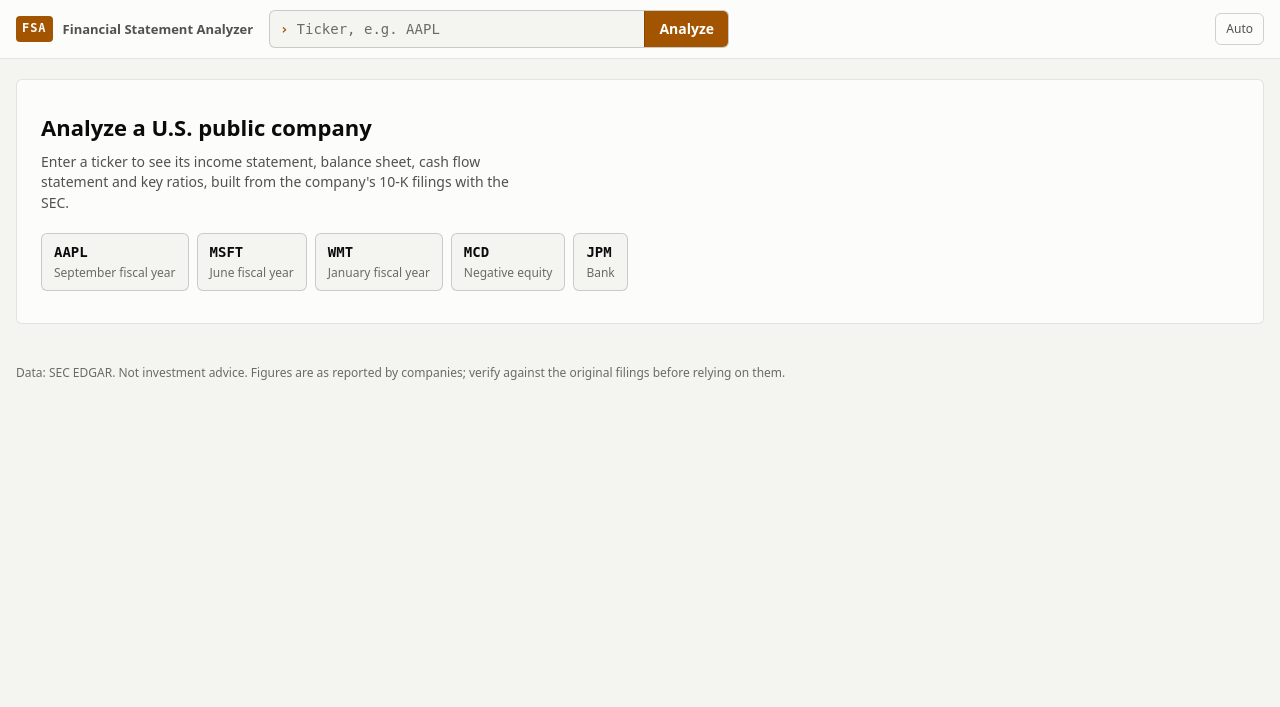
Trend analysis › explains findings that lack data
Type "EXMP" into the field named "Company ticker" at (466, 29), box x1=288 y1=13 x2=644 y2=45
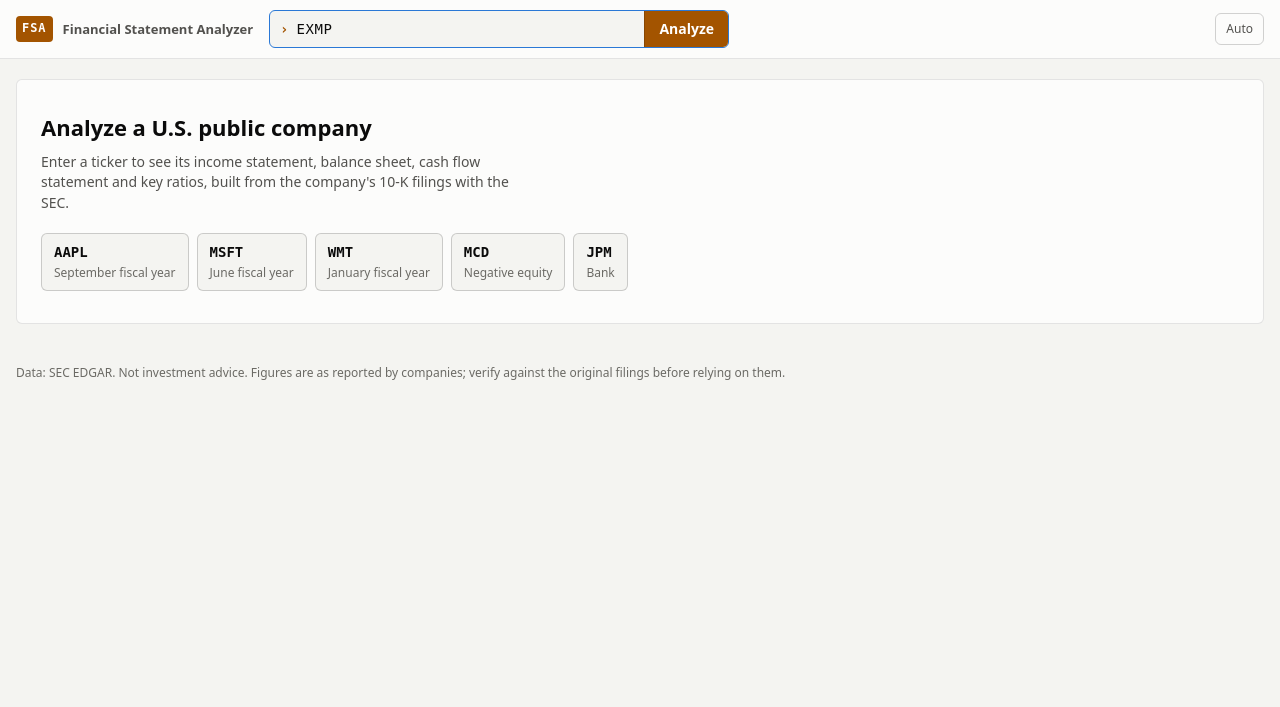
Click the button "Analyze" at (686, 29), box x1=644 y1=11 x2=728 y2=47
(page scrolled)
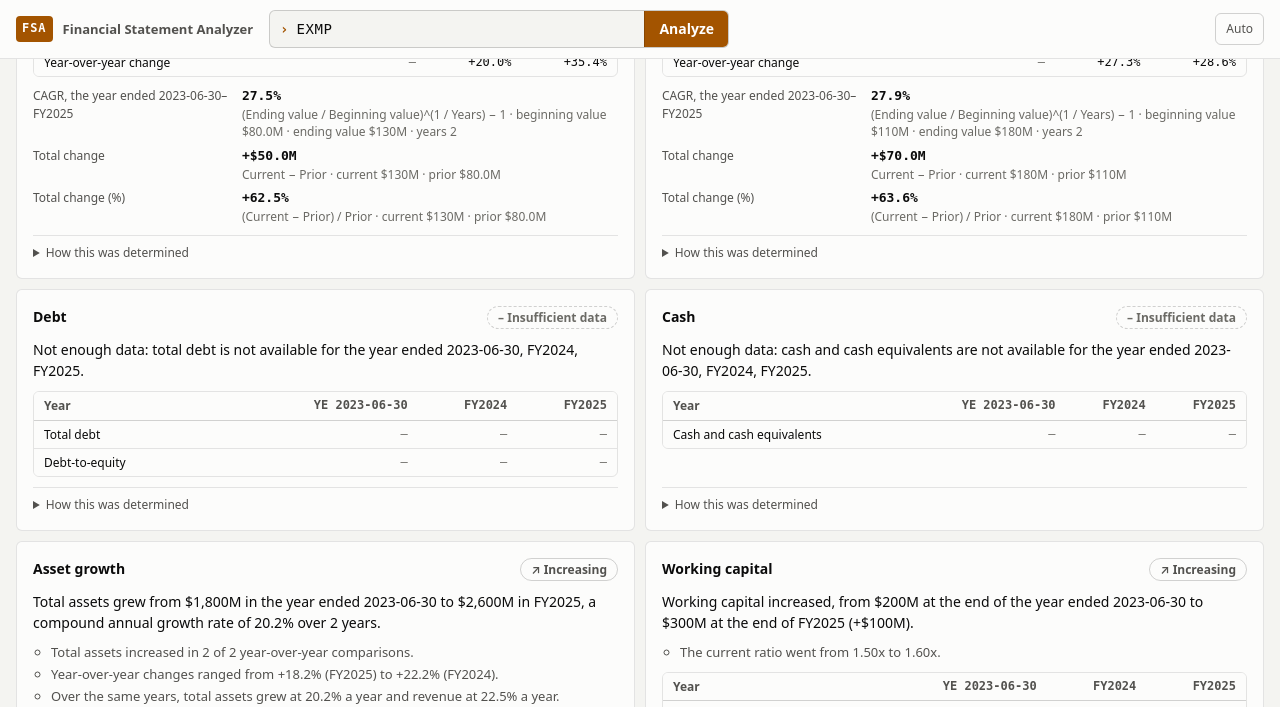
Check: the 1st text "Insufficient data" is shown, box x1=507 y1=309 x2=607 y2=326
Check: the text "total debt is not available" is shown, box x1=33 y1=340 x2=578 y2=380
